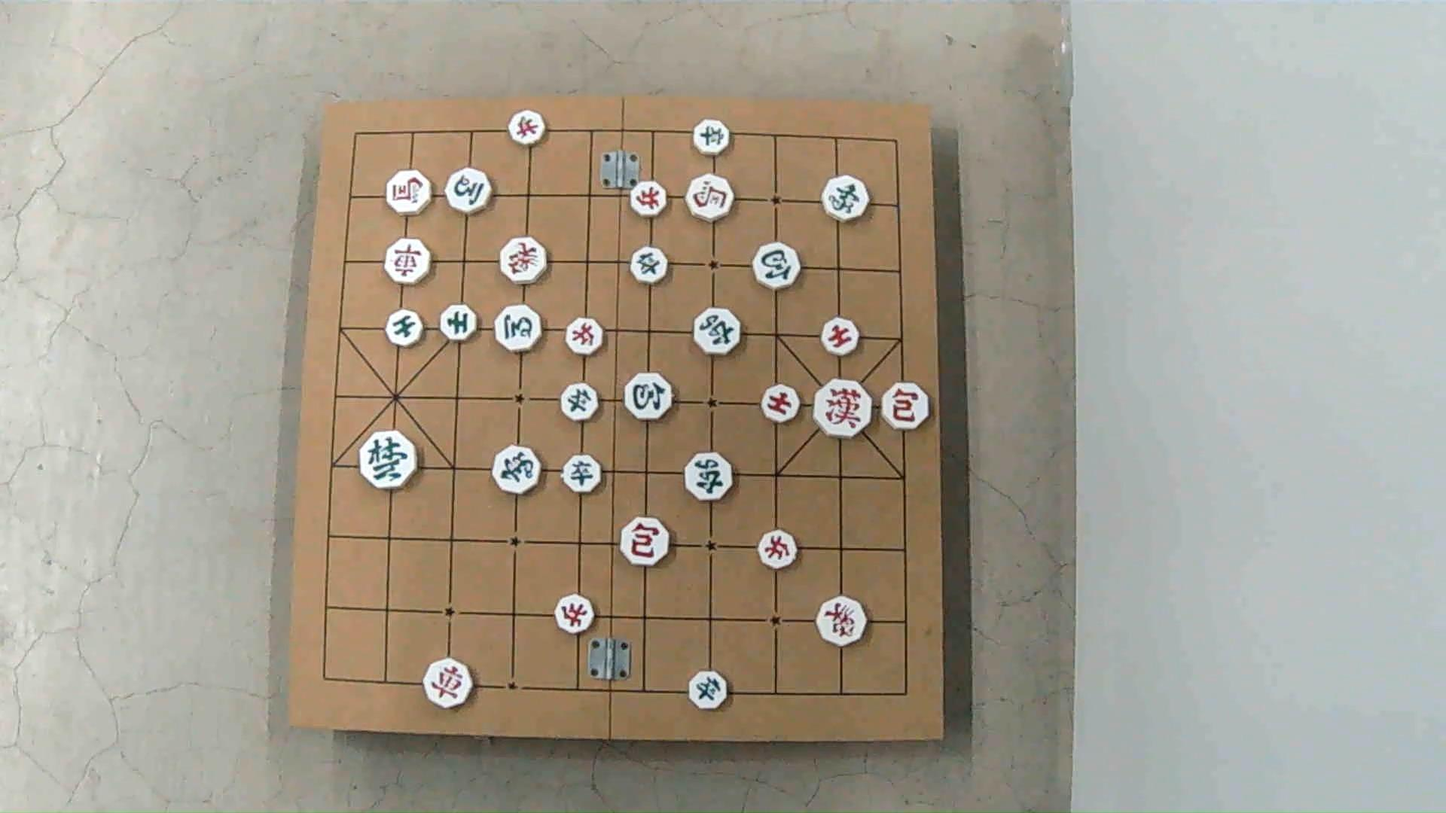cha_green: (694, 308, 740, 356), (685, 452, 731, 499)
cha_red: (425, 660, 473, 710), (383, 239, 430, 283)
jol_green: (688, 672, 729, 711), (560, 385, 598, 423), (564, 454, 602, 492), (632, 247, 670, 284), (695, 120, 733, 156)
jol_red: (758, 531, 798, 569), (554, 595, 593, 633), (567, 318, 604, 355), (631, 180, 670, 215), (507, 111, 544, 146)
ma_green: (493, 305, 541, 352), (445, 169, 492, 215)
ma_red: (687, 174, 734, 221), (387, 170, 432, 215)
po_green: (625, 374, 672, 421), (755, 243, 802, 290)
po_red: (621, 518, 670, 567), (883, 385, 931, 431)
sa_green: (387, 309, 423, 346), (440, 304, 476, 340)
sa_red: (760, 384, 800, 422), (822, 317, 858, 355)
sang_green: (494, 446, 541, 494), (823, 177, 868, 222)
sang_red: (817, 597, 866, 646), (499, 236, 546, 283)
wang_green: (361, 428, 417, 488)
wang_red: (813, 379, 871, 438)
